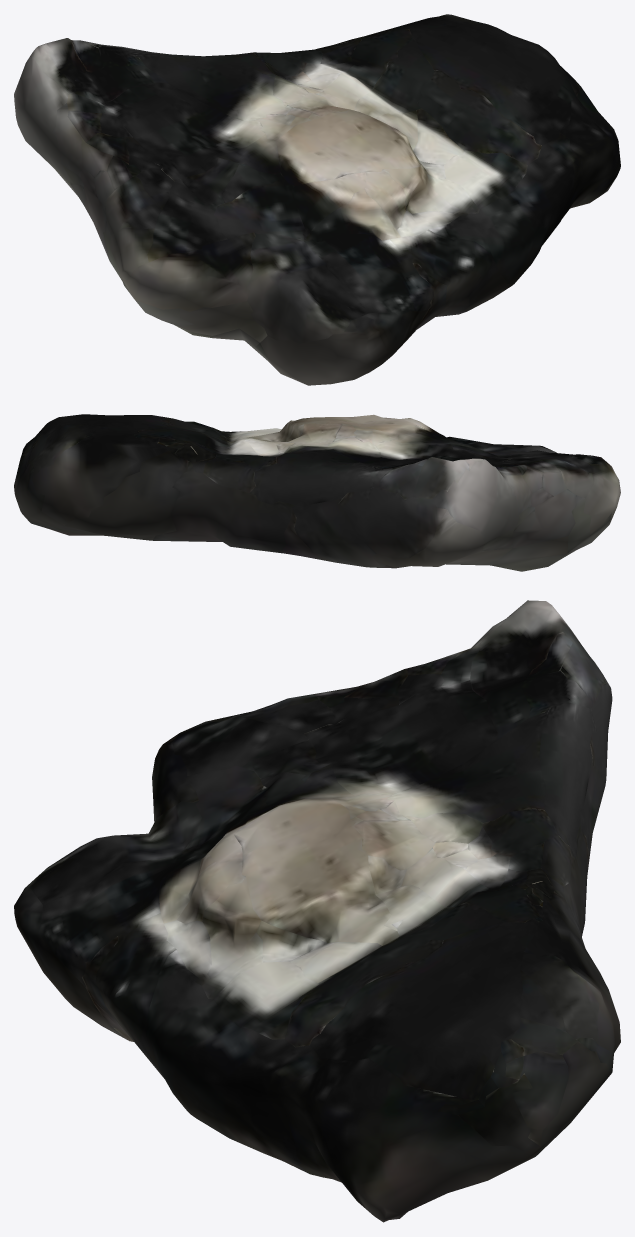
The model's file is hall.glb.
3 renders of one model, top to bottom at view 1: azimuth 30°, elevation 25°; view 2: azimuth 150°, elevation 25°; view 3: azimuth 270°, elevation 25°, orthographic. The views are drawn at different scales.
Size of the model in its own units: 0.5815 by 0.2574 by 0.4216.
1 material, 1 textured.
